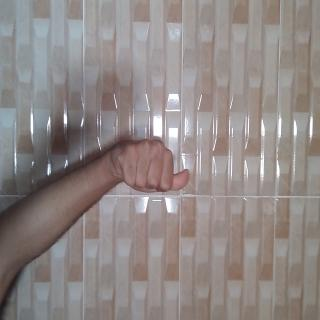ALIF: (99, 168, 152, 288)
